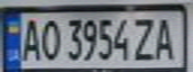3: (63, 16, 84, 61)
4: (112, 15, 133, 62)
5: (96, 16, 115, 61)
9: (78, 16, 100, 61)
A: (151, 15, 181, 62), (18, 15, 42, 62)
O: (39, 16, 60, 62)
Z: (130, 15, 157, 62)
